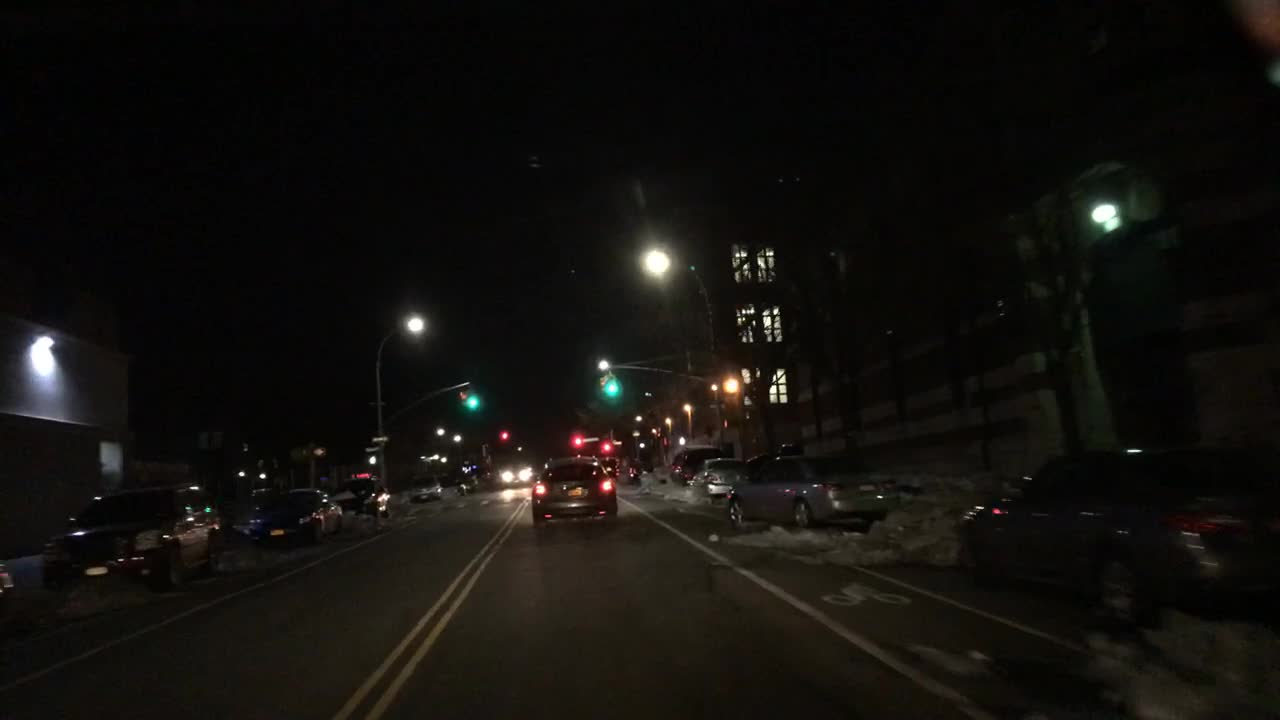car: (951, 443, 1278, 637), (39, 480, 224, 594), (728, 455, 899, 534), (530, 455, 617, 528), (246, 486, 343, 546), (327, 473, 391, 519), (687, 455, 748, 496), (670, 445, 725, 487), (497, 461, 537, 487), (1, 549, 13, 628), (407, 476, 443, 501), (627, 459, 653, 482), (456, 476, 479, 494)
traffic light: (607, 376, 618, 395), (465, 396, 479, 409), (598, 375, 606, 394), (572, 437, 584, 447), (499, 430, 510, 440), (602, 442, 612, 451)
traffic sign: (201, 433, 222, 449), (312, 447, 325, 455), (365, 447, 383, 451), (481, 441, 485, 457), (707, 398, 723, 402), (612, 439, 623, 444), (372, 437, 389, 440), (582, 436, 599, 439)
